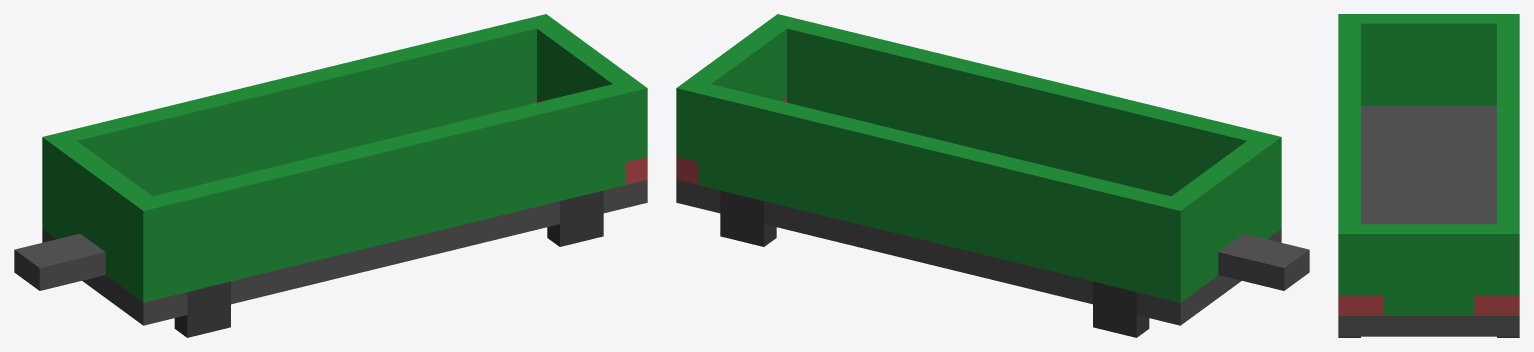
File: tractor-trailer-v1-green.gltf
3 renders of one model, left to right at view 1: azimuth 30°, elevation 25°; view 2: azimuth 150°, elevation 25°; view 3: azimuth 270°, elevation 25°, orthographic. The views are drawn at different scales.
Visible parts, largest first — view 1: model, wheels; view 2: model, wheels; view 3: model.
Part boxes in pixels (x1,y1,x2,y2): model: (14, 14, 647, 337); wheels: (174, 191, 603, 336); model: (676, 14, 1309, 337); wheels: (720, 192, 1149, 336); model: (1338, 14, 1519, 337).
Size of the model in its own units: 2.6 by 0.6 by 0.8.
Materials: 2 (2 with a texture image).
